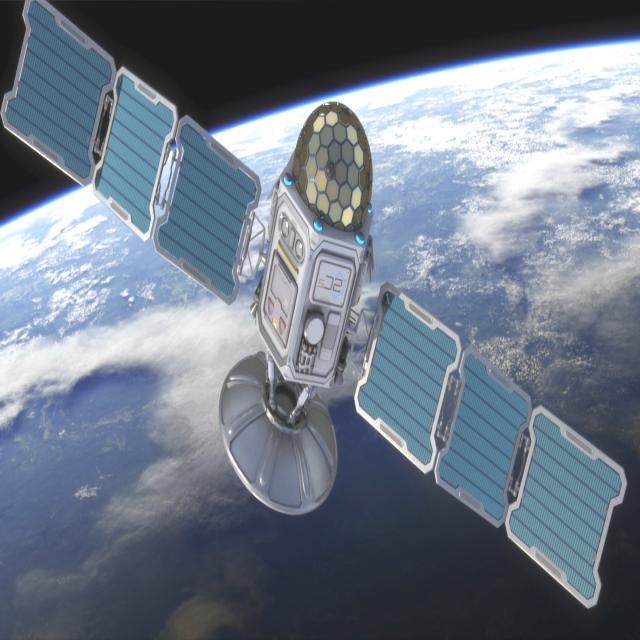satellite: (0, 0, 628, 615)
